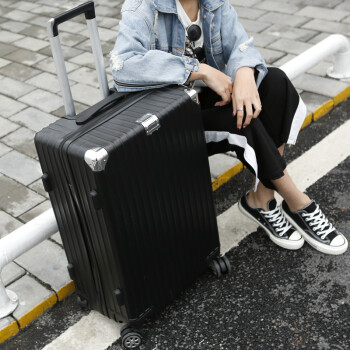box: (34, 85, 220, 324)
handle: (75, 92, 131, 125)
wheel: (119, 323, 144, 349), (210, 255, 232, 277)
